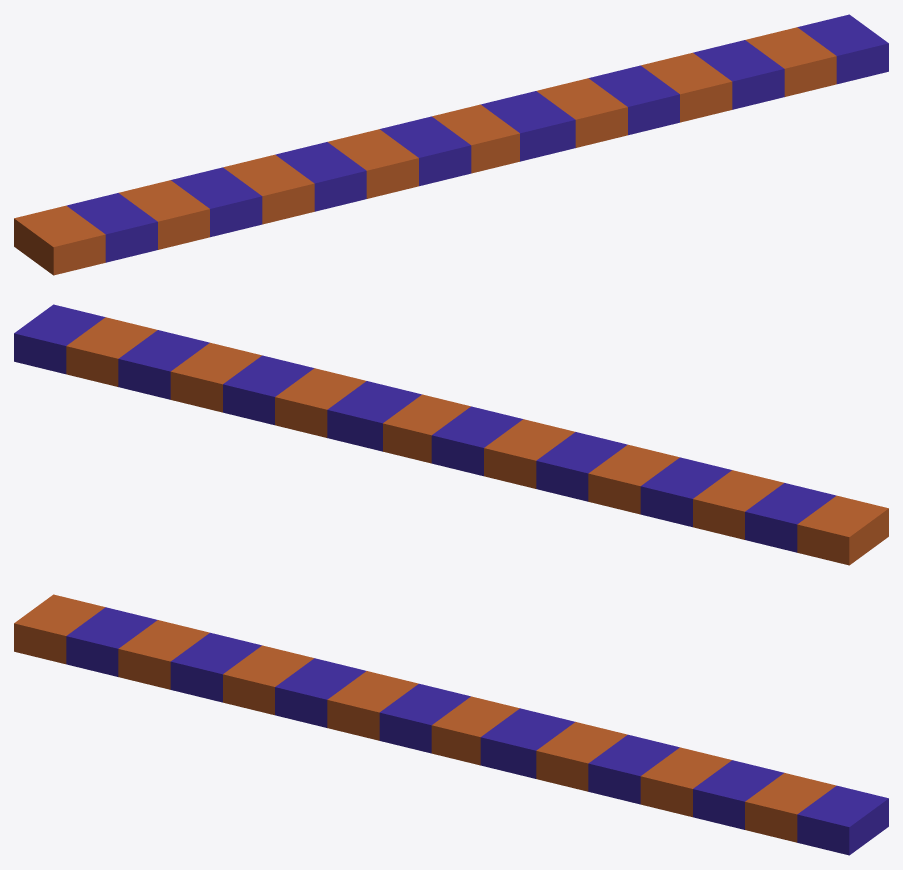
File: floor_square.glb
The picture shows the model from 3 angles, top to bottom: view 1: azimuth 30°, elevation 25°; view 2: azimuth 150°, elevation 25°; view 3: azimuth 330°, elevation 25°; orthographic projection.
Visible parts, largest first — view 1: Floor_Square; view 2: Floor_Square; view 3: Floor_Square.
Boxes of the visible parts, <box> form: Floor_Square: <box>14,14,888,275</box>; Floor_Square: <box>14,304,888,565</box>; Floor_Square: <box>14,594,888,855</box>.
Bounding box in the file's own units: 61.8 × 2 × 5.06.
